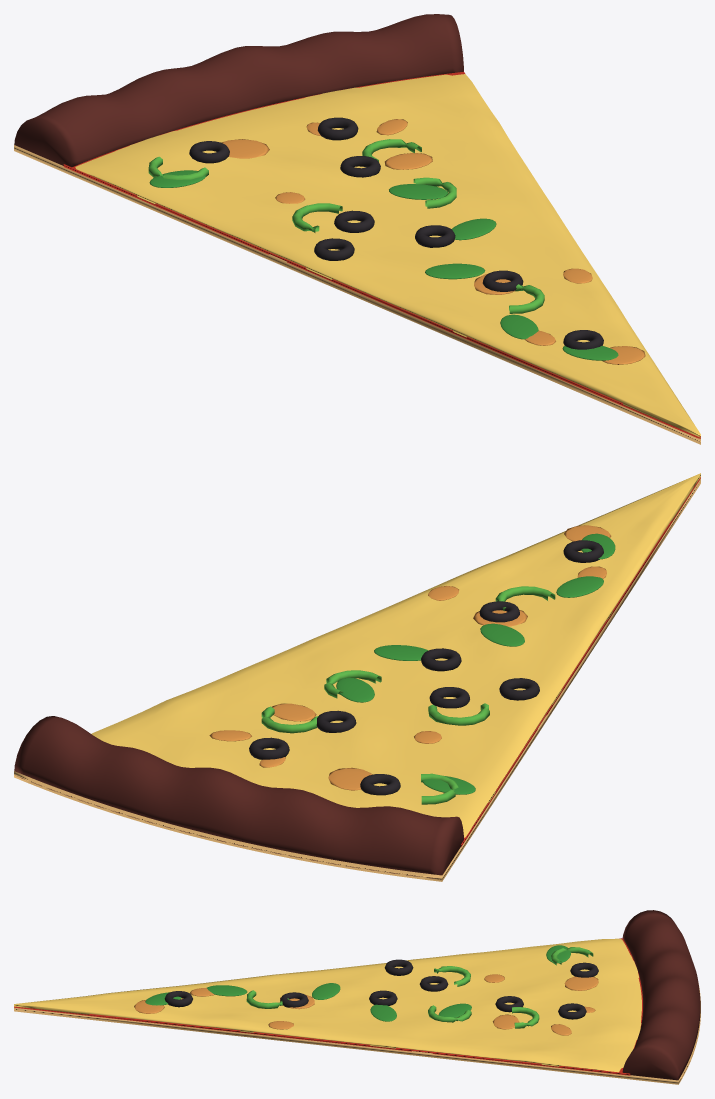
File: EatsaPizzaSlice.obj
The picture shows the model from 3 angles, top to bottom: view 1: azimuth 30°, elevation 25°; view 2: azimuth 150°, elevation 25°; view 3: azimuth 270°, elevation 25°; orthographic projection. The views are drawn at different scales.
Parts seen in each view (by area): view 1: Cheese, Crust, Olives, Dough, Basil, Toasty, Peppers, Sauce; view 2: Cheese, Crust, Olives, Dough, Basil, Toasty, Peppers, Sauce; view 3: Cheese, Crust, Dough, Olives, Basil, Toasty, Sauce, Peppers.
Boxes of the visible parts, box(x1,y1,x2,y2) form: Cheese: box(75, 74, 700, 437); Crust: box(14, 14, 463, 167); Olives: box(189, 117, 603, 349); Dough: box(14, 145, 700, 444); Basil: box(149, 170, 618, 360); Toasty: box(221, 119, 645, 364); Peppers: box(148, 139, 544, 313); Sauce: box(63, 71, 700, 438); Cheese: box(91, 473, 700, 837); Crust: box(14, 716, 463, 879); Olives: box(249, 540, 603, 795); Dough: box(14, 478, 700, 881); Basil: box(336, 533, 615, 794); Toasty: box(209, 525, 611, 790); Peppers: box(261, 586, 555, 804); Sauce: box(461, 477, 700, 846); Cheese: box(14, 938, 641, 1072); Crust: box(622, 910, 700, 1080); Dough: box(14, 982, 700, 1084); Olives: box(164, 959, 598, 1019); Basil: box(145, 945, 570, 1021); Toasty: box(134, 974, 598, 1035); Sauce: box(14, 938, 642, 1075); Peppers: box(246, 947, 593, 1028).
Size of the model in its own units: 10.12 by 1.11 by 20.
